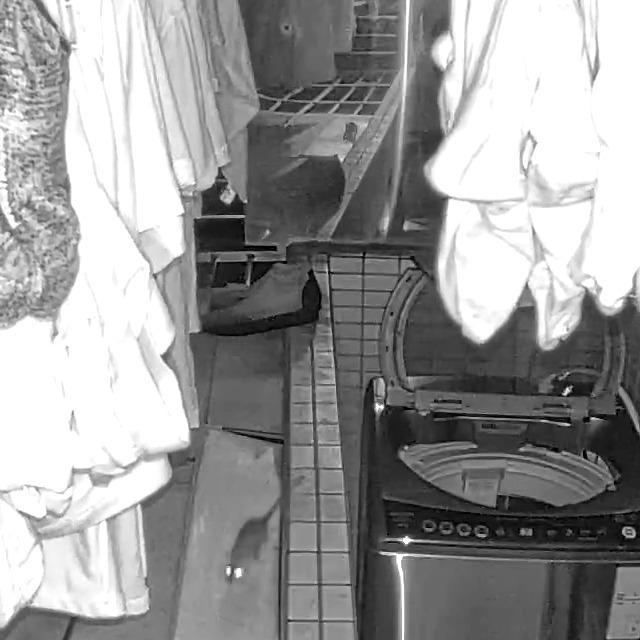rat: (224, 476, 305, 586)
